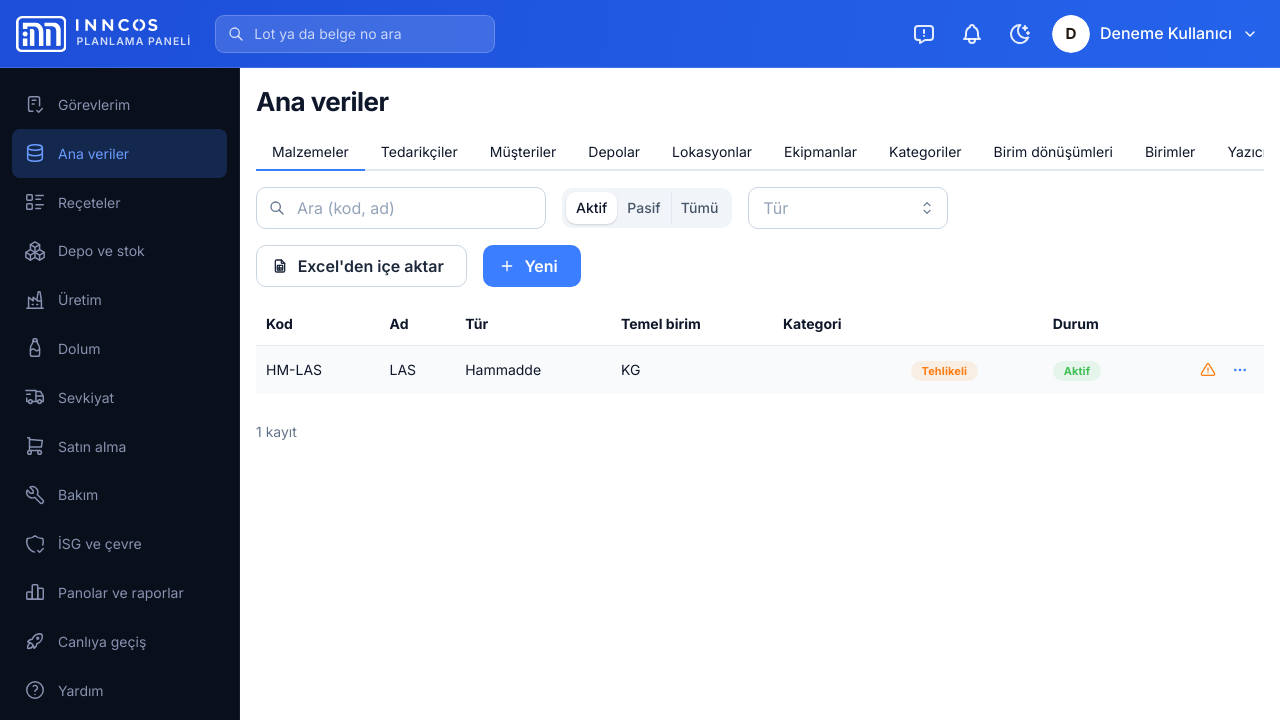
ana veriler ekranı › iş kuralı hatasını uyarı olarak gösterir
The width and height of the screenshot is (1280, 720).
Click the text "HM-LAS": (318,370) [256,345,380,394]
(page scrolled)
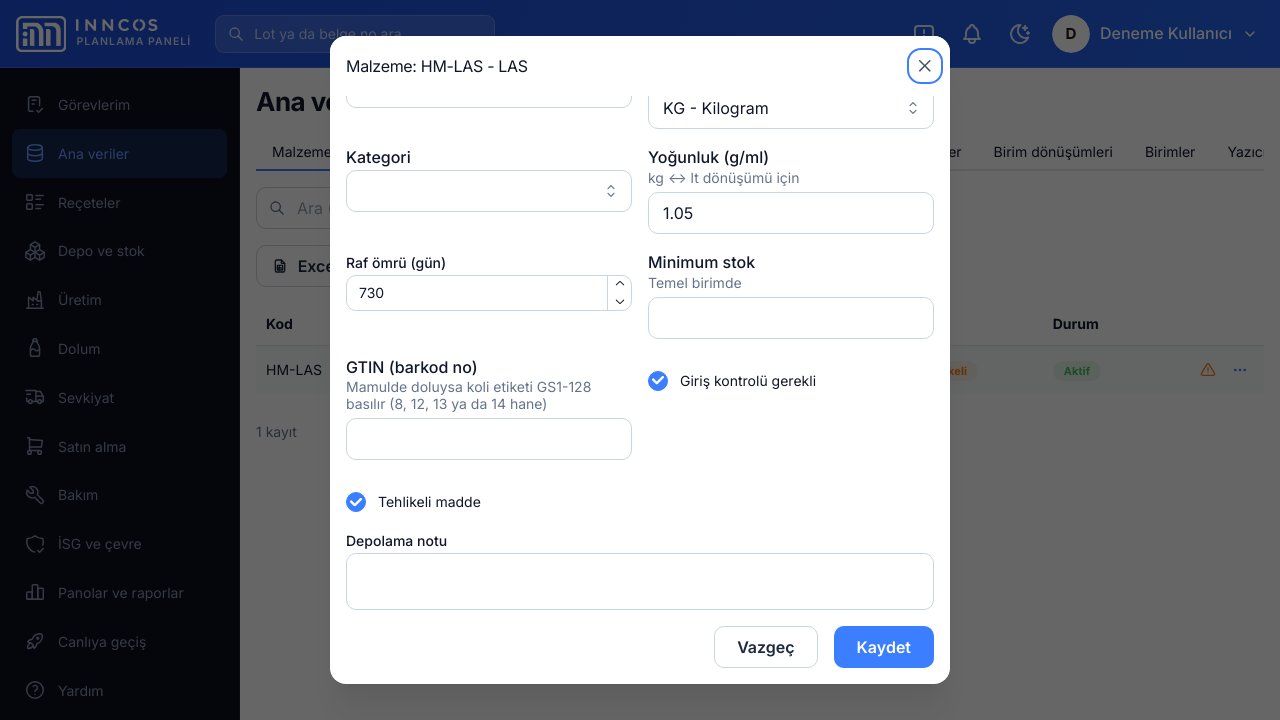
Click the button "Kaydet": (884,647) [834,626,934,668]
(page scrolled)
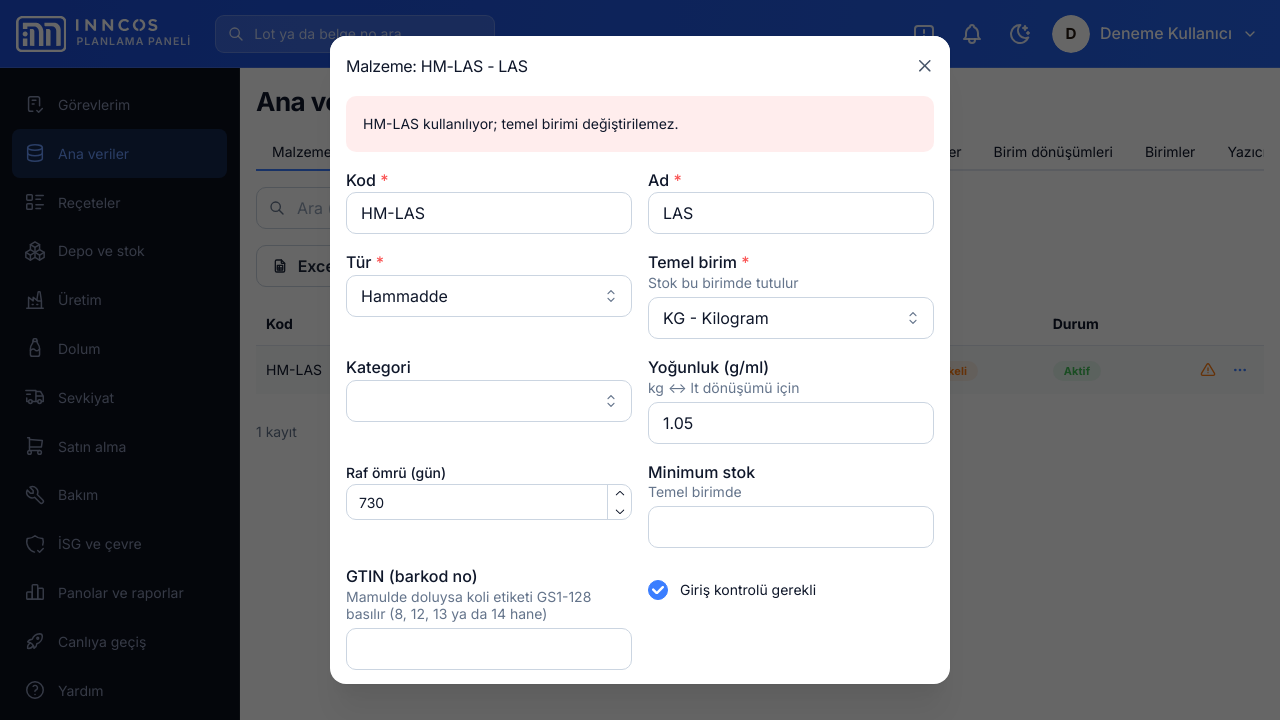
Result: the text "HM-LAS kullanılıyor; temel birimi değiştirilemez." is shown at [363,115,679,132]
